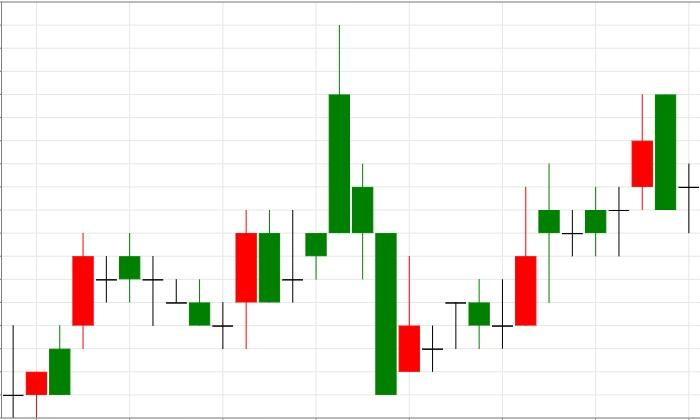bearish_engulfing_fall: (492, 93, 676, 349)
